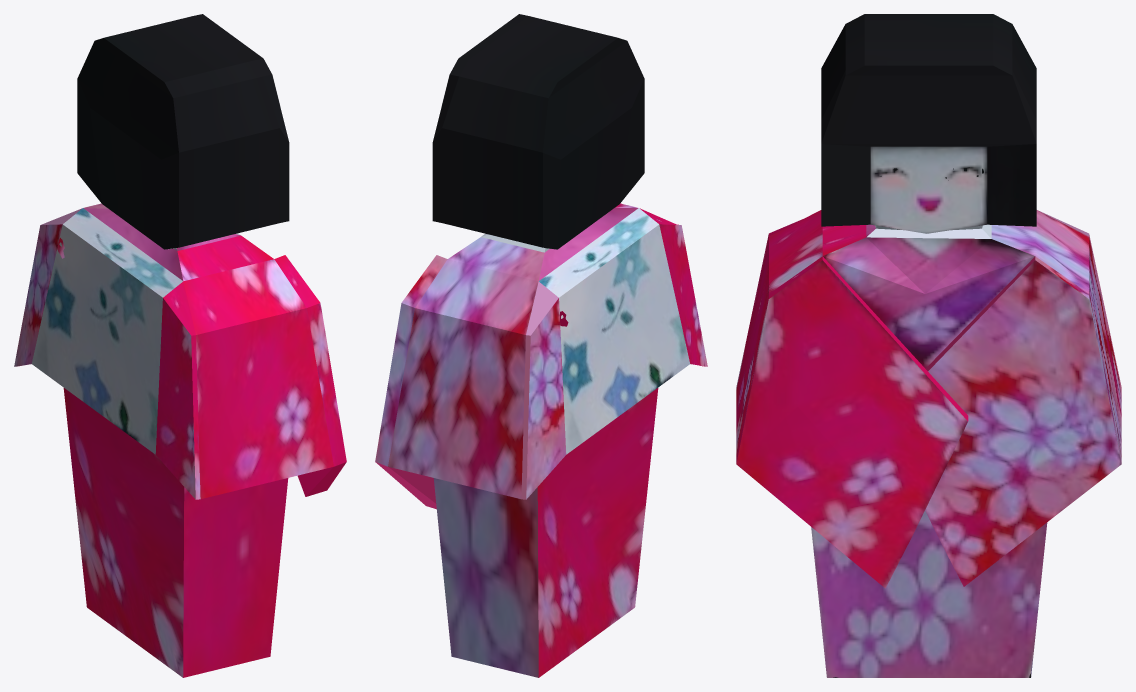
The model's file is kokeshi.fbx.
3 views of the same model, side by side, from view 1: azimuth 30°, elevation 25°; view 2: azimuth 150°, elevation 25°; view 3: azimuth 270°, elevation 25° (orthographic). The views are drawn at different scales.
Visible parts, largest first — view 1: Cube; view 2: Cube; view 3: Cube.
Part boxes in pixels (<box>): Cube: <box>14,14,346,677</box>; Cube: <box>375,14,707,677</box>; Cube: <box>736,14,1121,677</box>.
Size of the model in its own units: 464 by 1214 by 686.
Materials: 1 (1 with a texture image).
